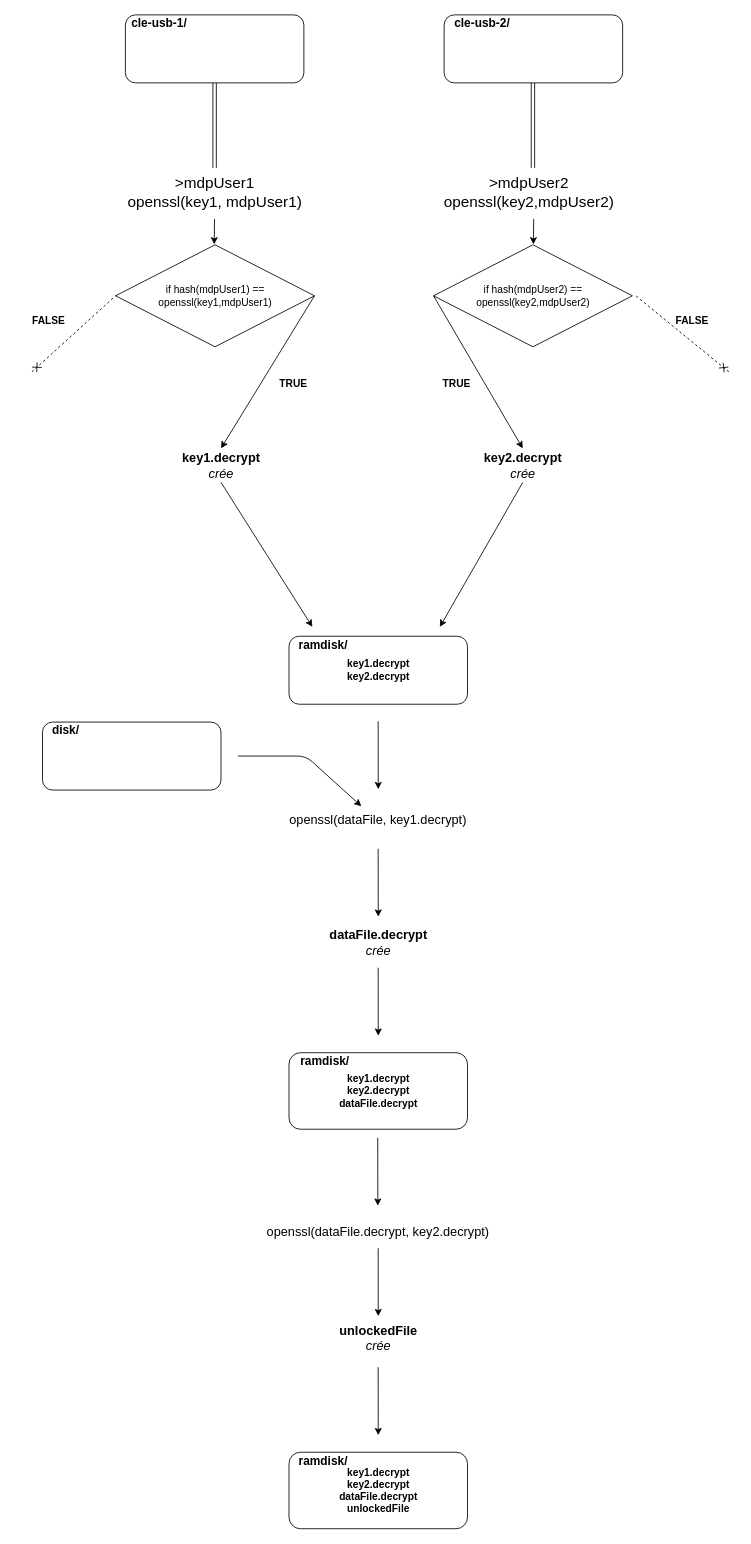
This 751x1544 diagram has some shape labels left out. The shapes that lost their labels are listed below. From the top down, each one's box as (x1, y1, x2, y2) in pixels, then its label:
(125, 14, 304, 83): key1 (crypté)
(443, 14, 623, 83): key2 (crypté)
(42, 721, 221, 790): dataFile (crypté)
